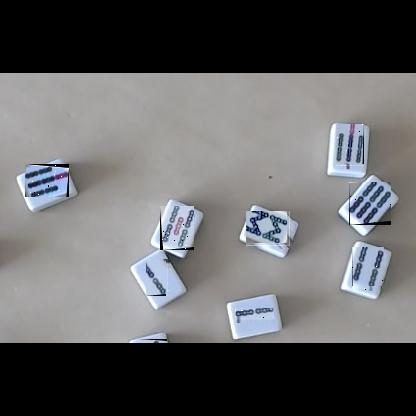2s: (147, 259, 171, 296), (235, 309, 274, 323)
4s: (352, 248, 384, 291), (137, 339, 167, 343)
5s: (160, 206, 194, 250)
6s: (349, 182, 391, 225)
7s: (25, 164, 69, 197), (336, 125, 364, 169)
8s: (247, 212, 293, 249)
